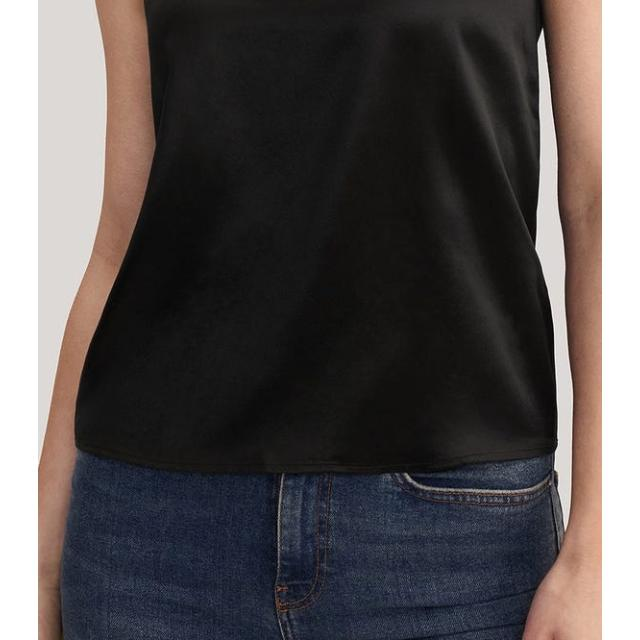silk: (100, 0, 550, 468)
